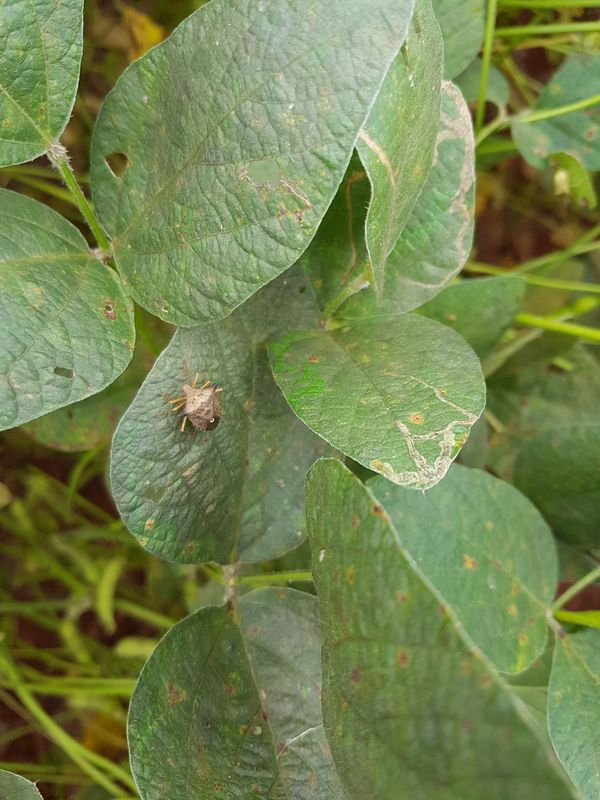Euschistus_heros_adulto: (160, 367, 244, 447)
